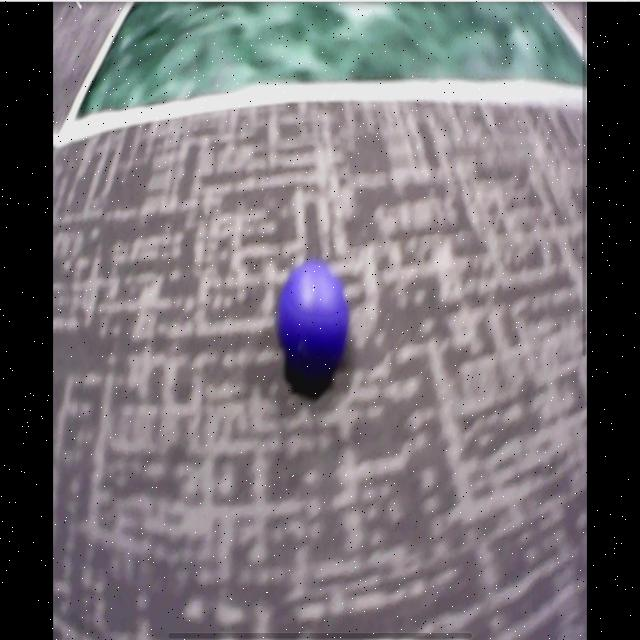ball: (279, 262, 349, 369)
